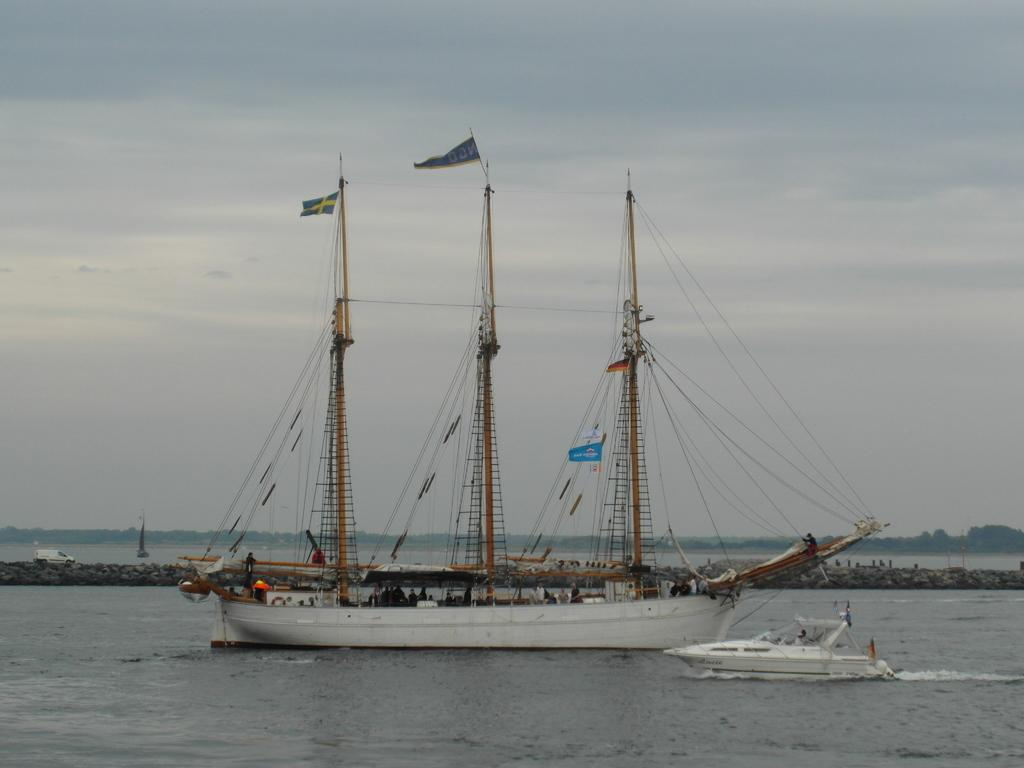PassengerShip: (133, 570, 847, 658)
